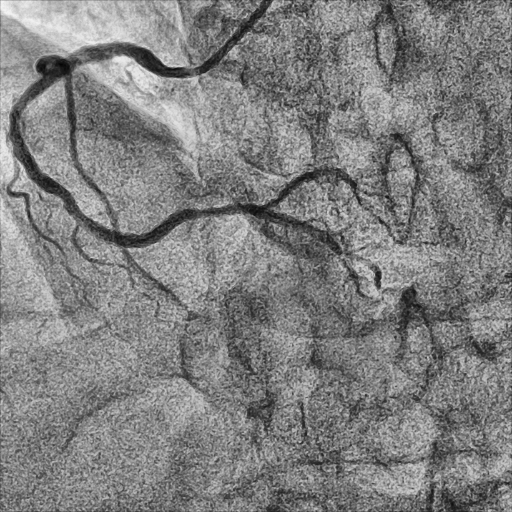pborca: (264, 169, 363, 207)
pda: (263, 210, 366, 298)
rca: (9, 42, 271, 248)
